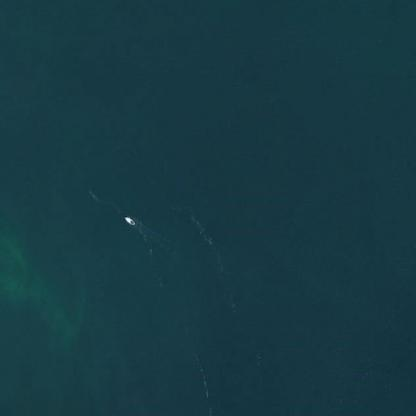ship: (114, 211, 144, 229)
